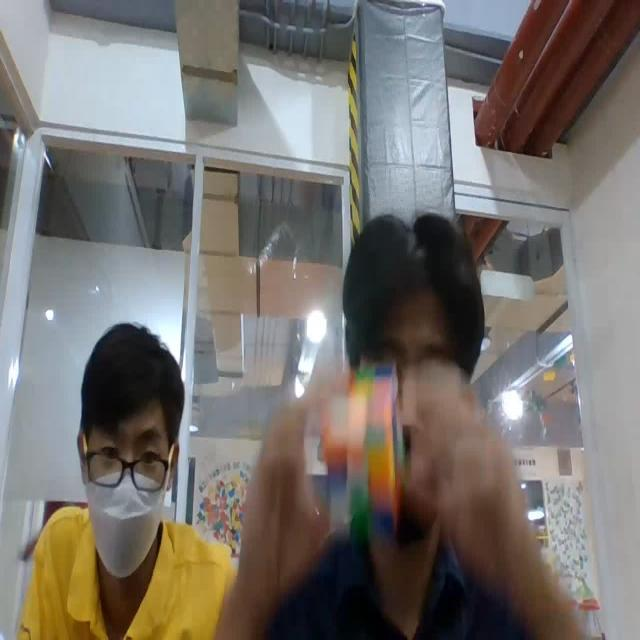Rub: (322, 360, 406, 546)
